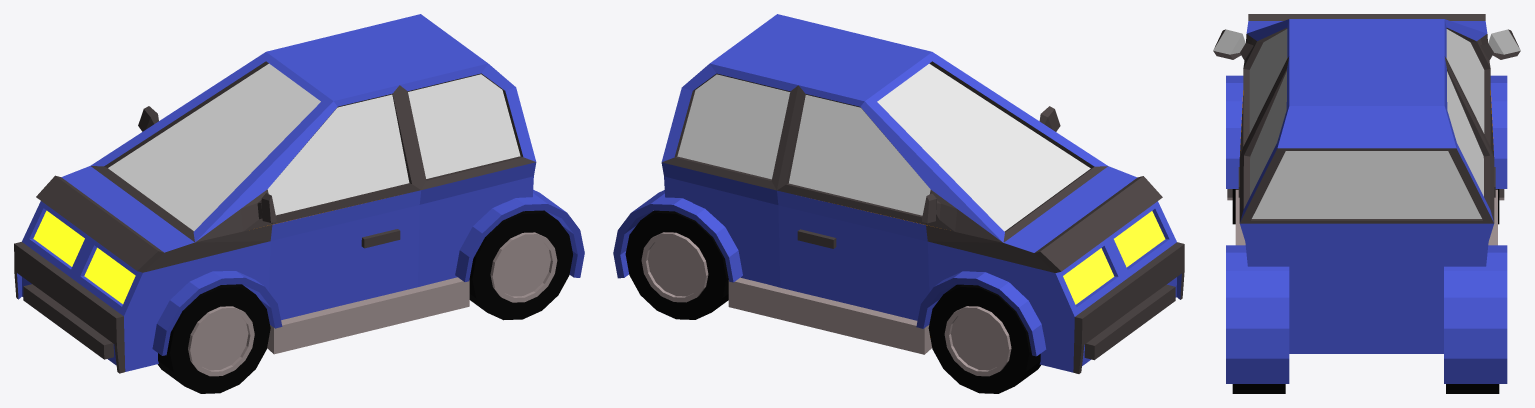
File: Carro_Azul_MMX.fbx
3 renders of one model, left to right at view 1: azimuth 30°, elevation 25°; view 2: azimuth 150°, elevation 25°; view 3: azimuth 270°, elevation 25°, orthographic. The views are drawn at different scales.
Parts seen in each view (by area): view 1: Cube.004, Cylinder.004, Cube.006, Cylinder.005; view 2: Cube.004, Cylinder.007, Cube.006, Cylinder.006; view 3: Cube.004, Cylinder.005, Cylinder.006, Cylinder.004, Cylinder.007, Cube.006.
Boxes of the visible parts, x1,y1,x2,y2 form: Cube.004: (14,14,536,373); Cylinder.004: (157,210,572,393); Cube.006: (267,277,469,354); Cylinder.005: (152,190,584,355); Cube.004: (661,14,1184,373); Cylinder.007: (625,210,1040,393); Cube.006: (728,277,932,354); Cylinder.006: (613,190,1046,356); Cube.004: (1213,14,1520,353); Cylinder.005: (1226,75,1289,383); Cylinder.006: (1444,75,1507,383); Cylinder.004: (1227,189,1285,393); Cylinder.007: (1446,189,1504,393); Cube.006: (1235,189,1497,245).
Bounding box in the file's own units: 622 × 311 × 314.
